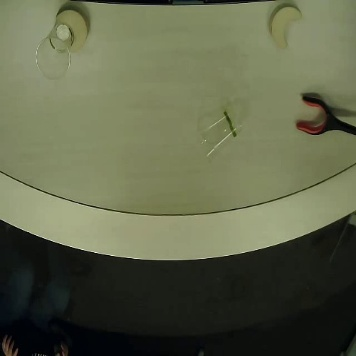empty_cup: (193, 103, 249, 158), (36, 17, 77, 91)
puck: (267, 2, 304, 55), (52, 7, 92, 56)
